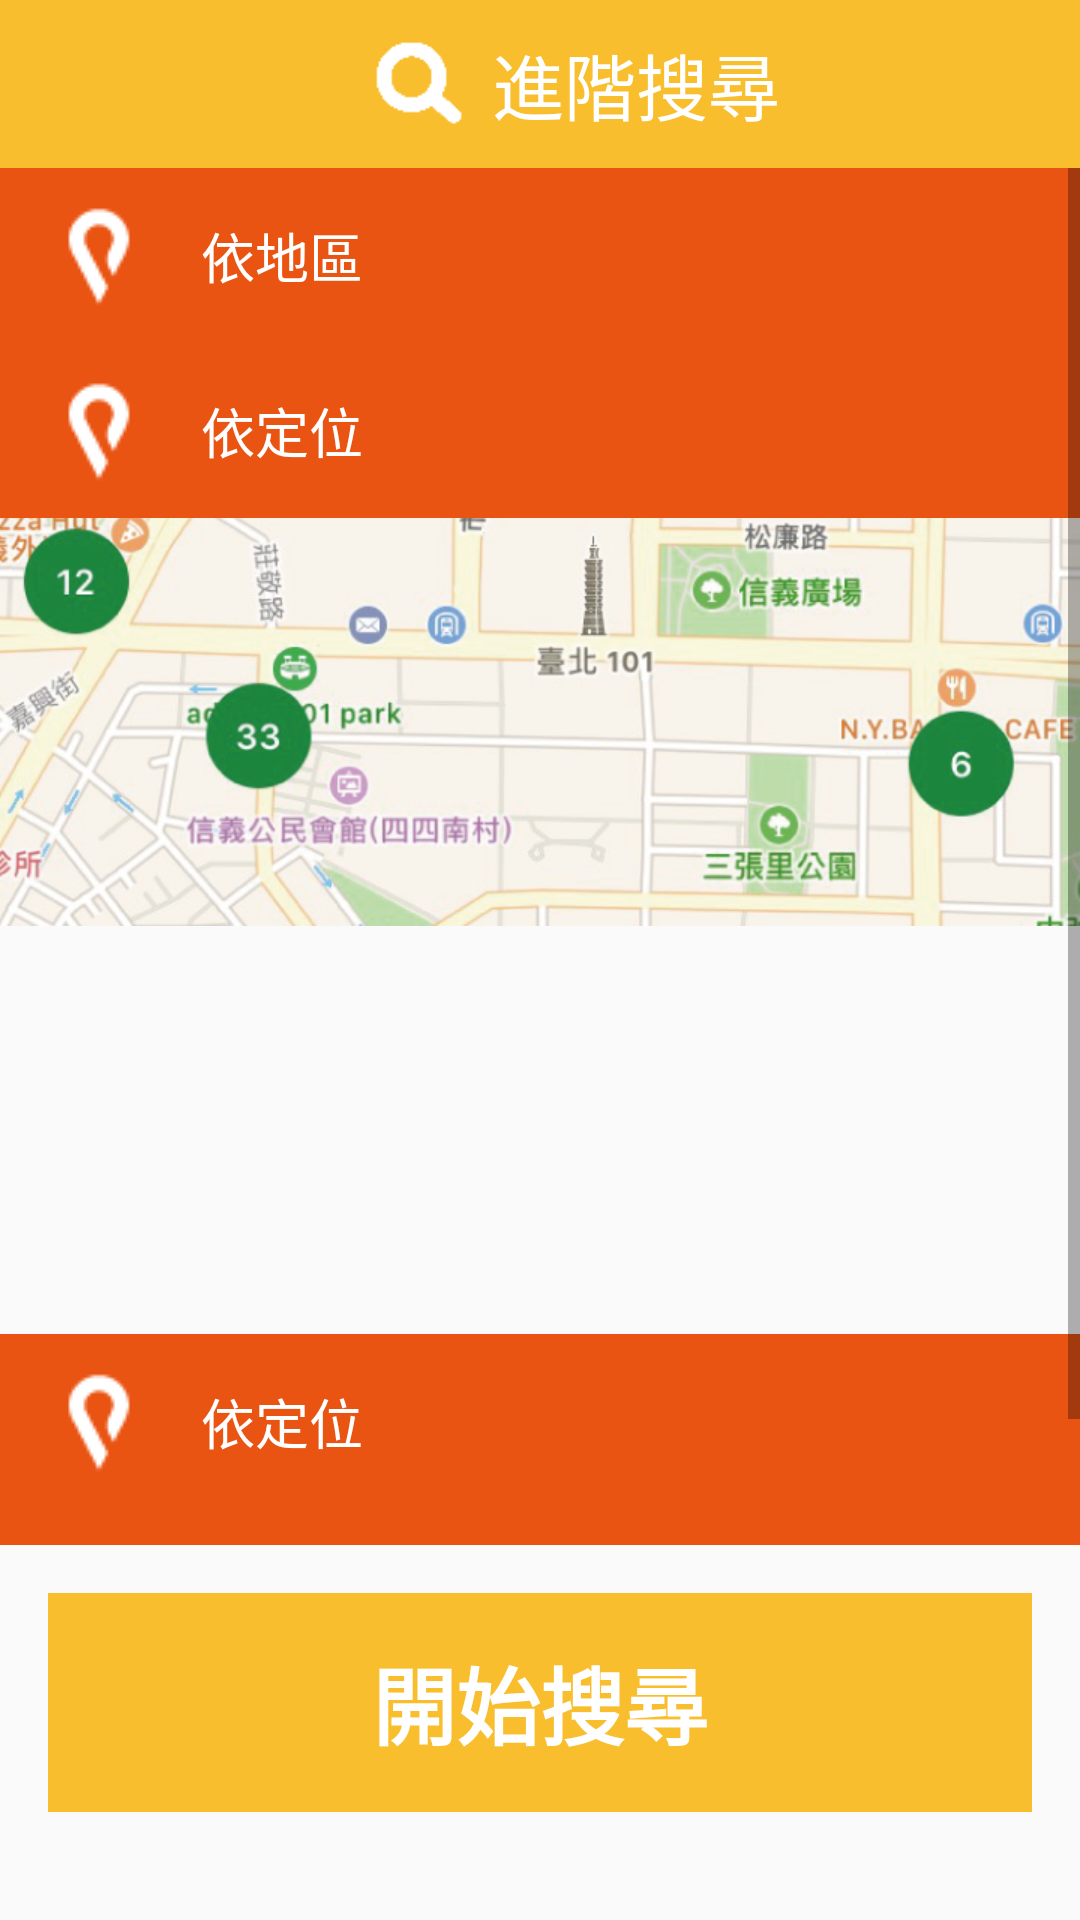

Point at icon controls on the screen. Image size 1080px x 1920px, points as [x,y].
sidebar buttons search: [419,83]
